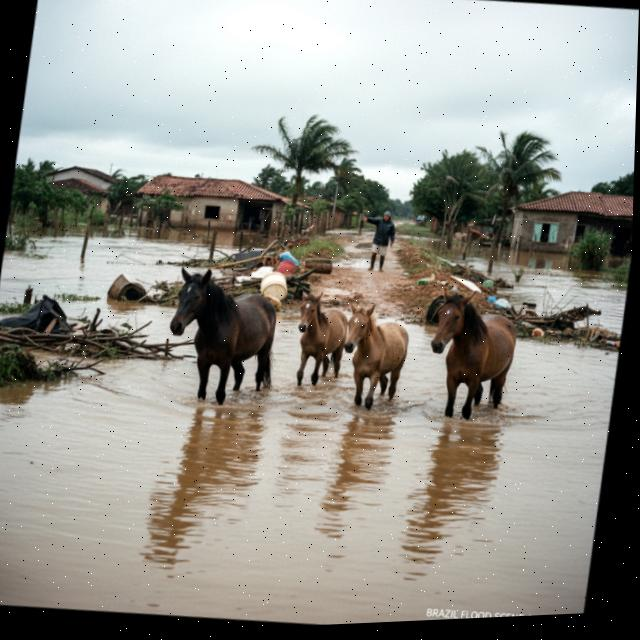civilian: (355, 204, 406, 280)
horse: (153, 254, 300, 424), (415, 277, 535, 436), (331, 297, 425, 422), (283, 283, 357, 402)
